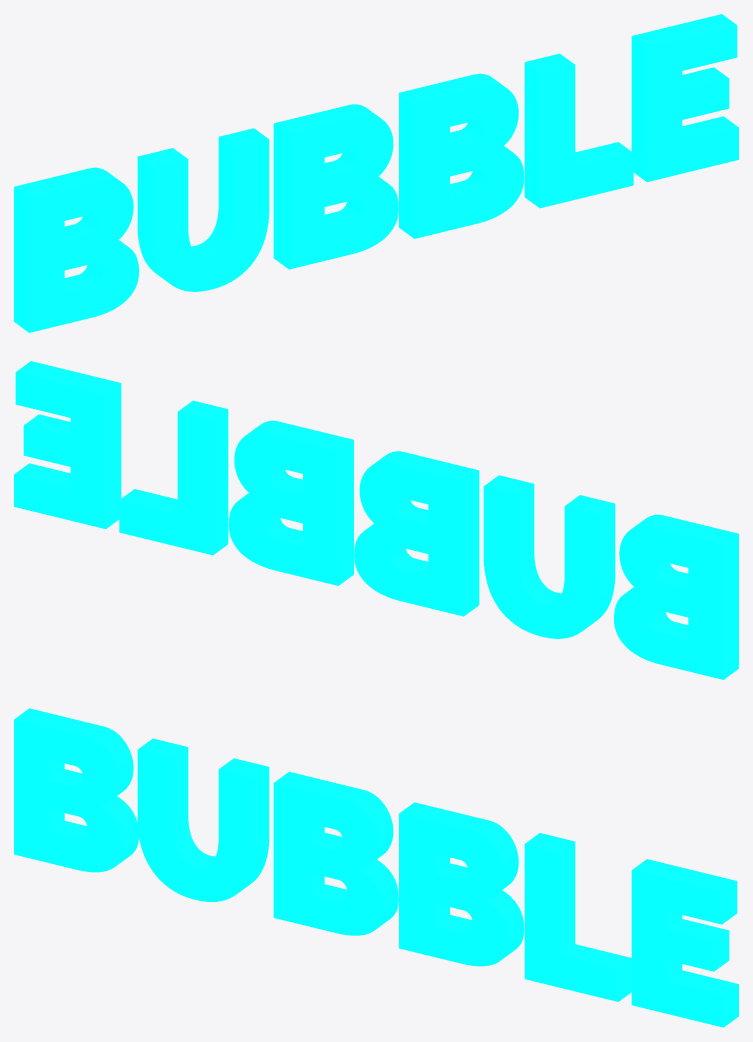
File: bubble.fbx
3 renders of one model, top to bottom at view 1: azimuth 30°, elevation 25°; view 2: azimuth 150°, elevation 25°; view 3: azimuth 330°, elevation 25°, orthographic.
Parts seen in each view (by area): view 1: typeMesh3; view 2: typeMesh3; view 3: typeMesh3.
Part boxes in pixels (bbox=[...]): typeMesh3: bbox=[14, 14, 738, 332]; typeMesh3: bbox=[14, 361, 738, 679]; typeMesh3: bbox=[14, 708, 738, 1027].
Bounding box in the file's own units: 66.77 × 12.24 × 2.5.
